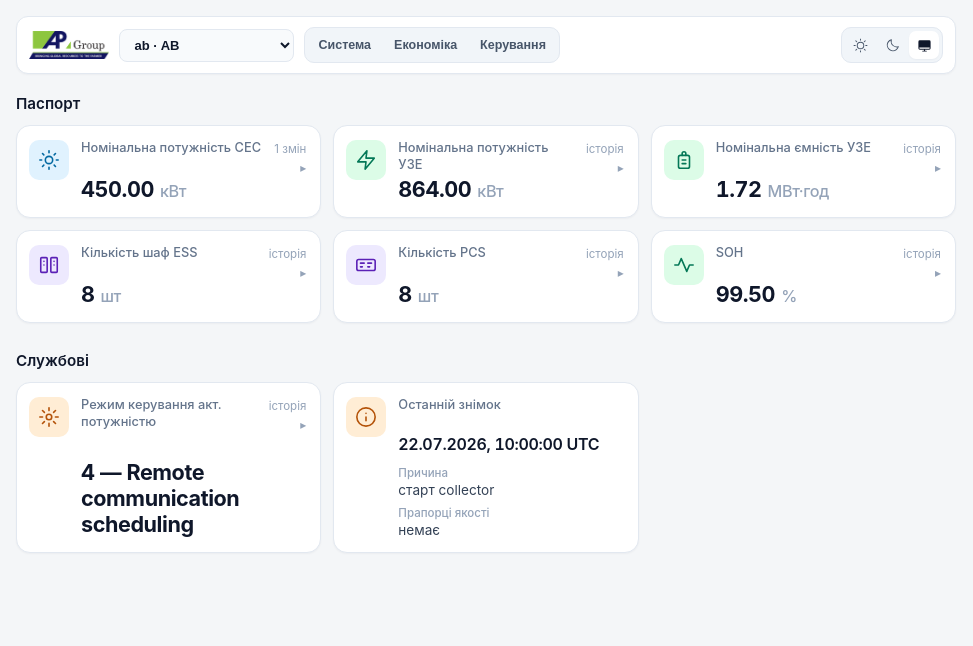
Scenario: StationPage › renders passport cards and expands history
This screenshot has width=973, height=646.
Expected: the text "Номінальна потужність СЕС" is shown, [81, 140, 261, 155]
Expected: the text "450.00" is shown, [81, 176, 154, 202]
Click the button "Номінальна потужність СЕС 450.00кВт 1 змін ▸" at (49, 160), box [17, 126, 320, 217]
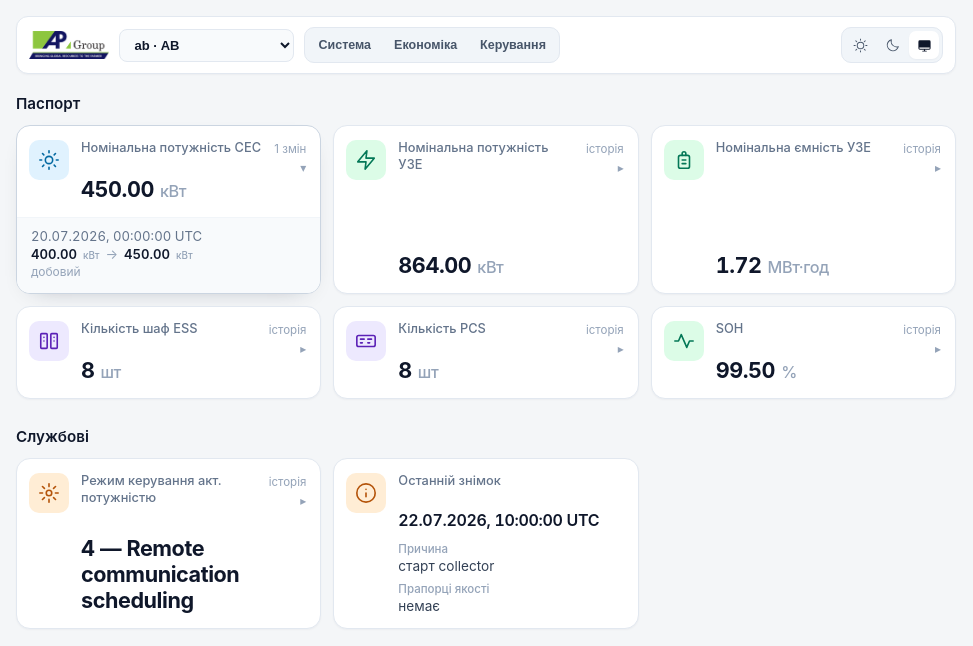
Expected: the text "добовий" is shown, [31, 264, 81, 279]
Expected: the text "400.00" is shown, [31, 246, 77, 262]
